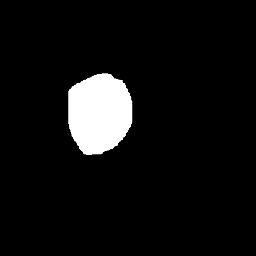mass: (63, 86, 129, 169)
